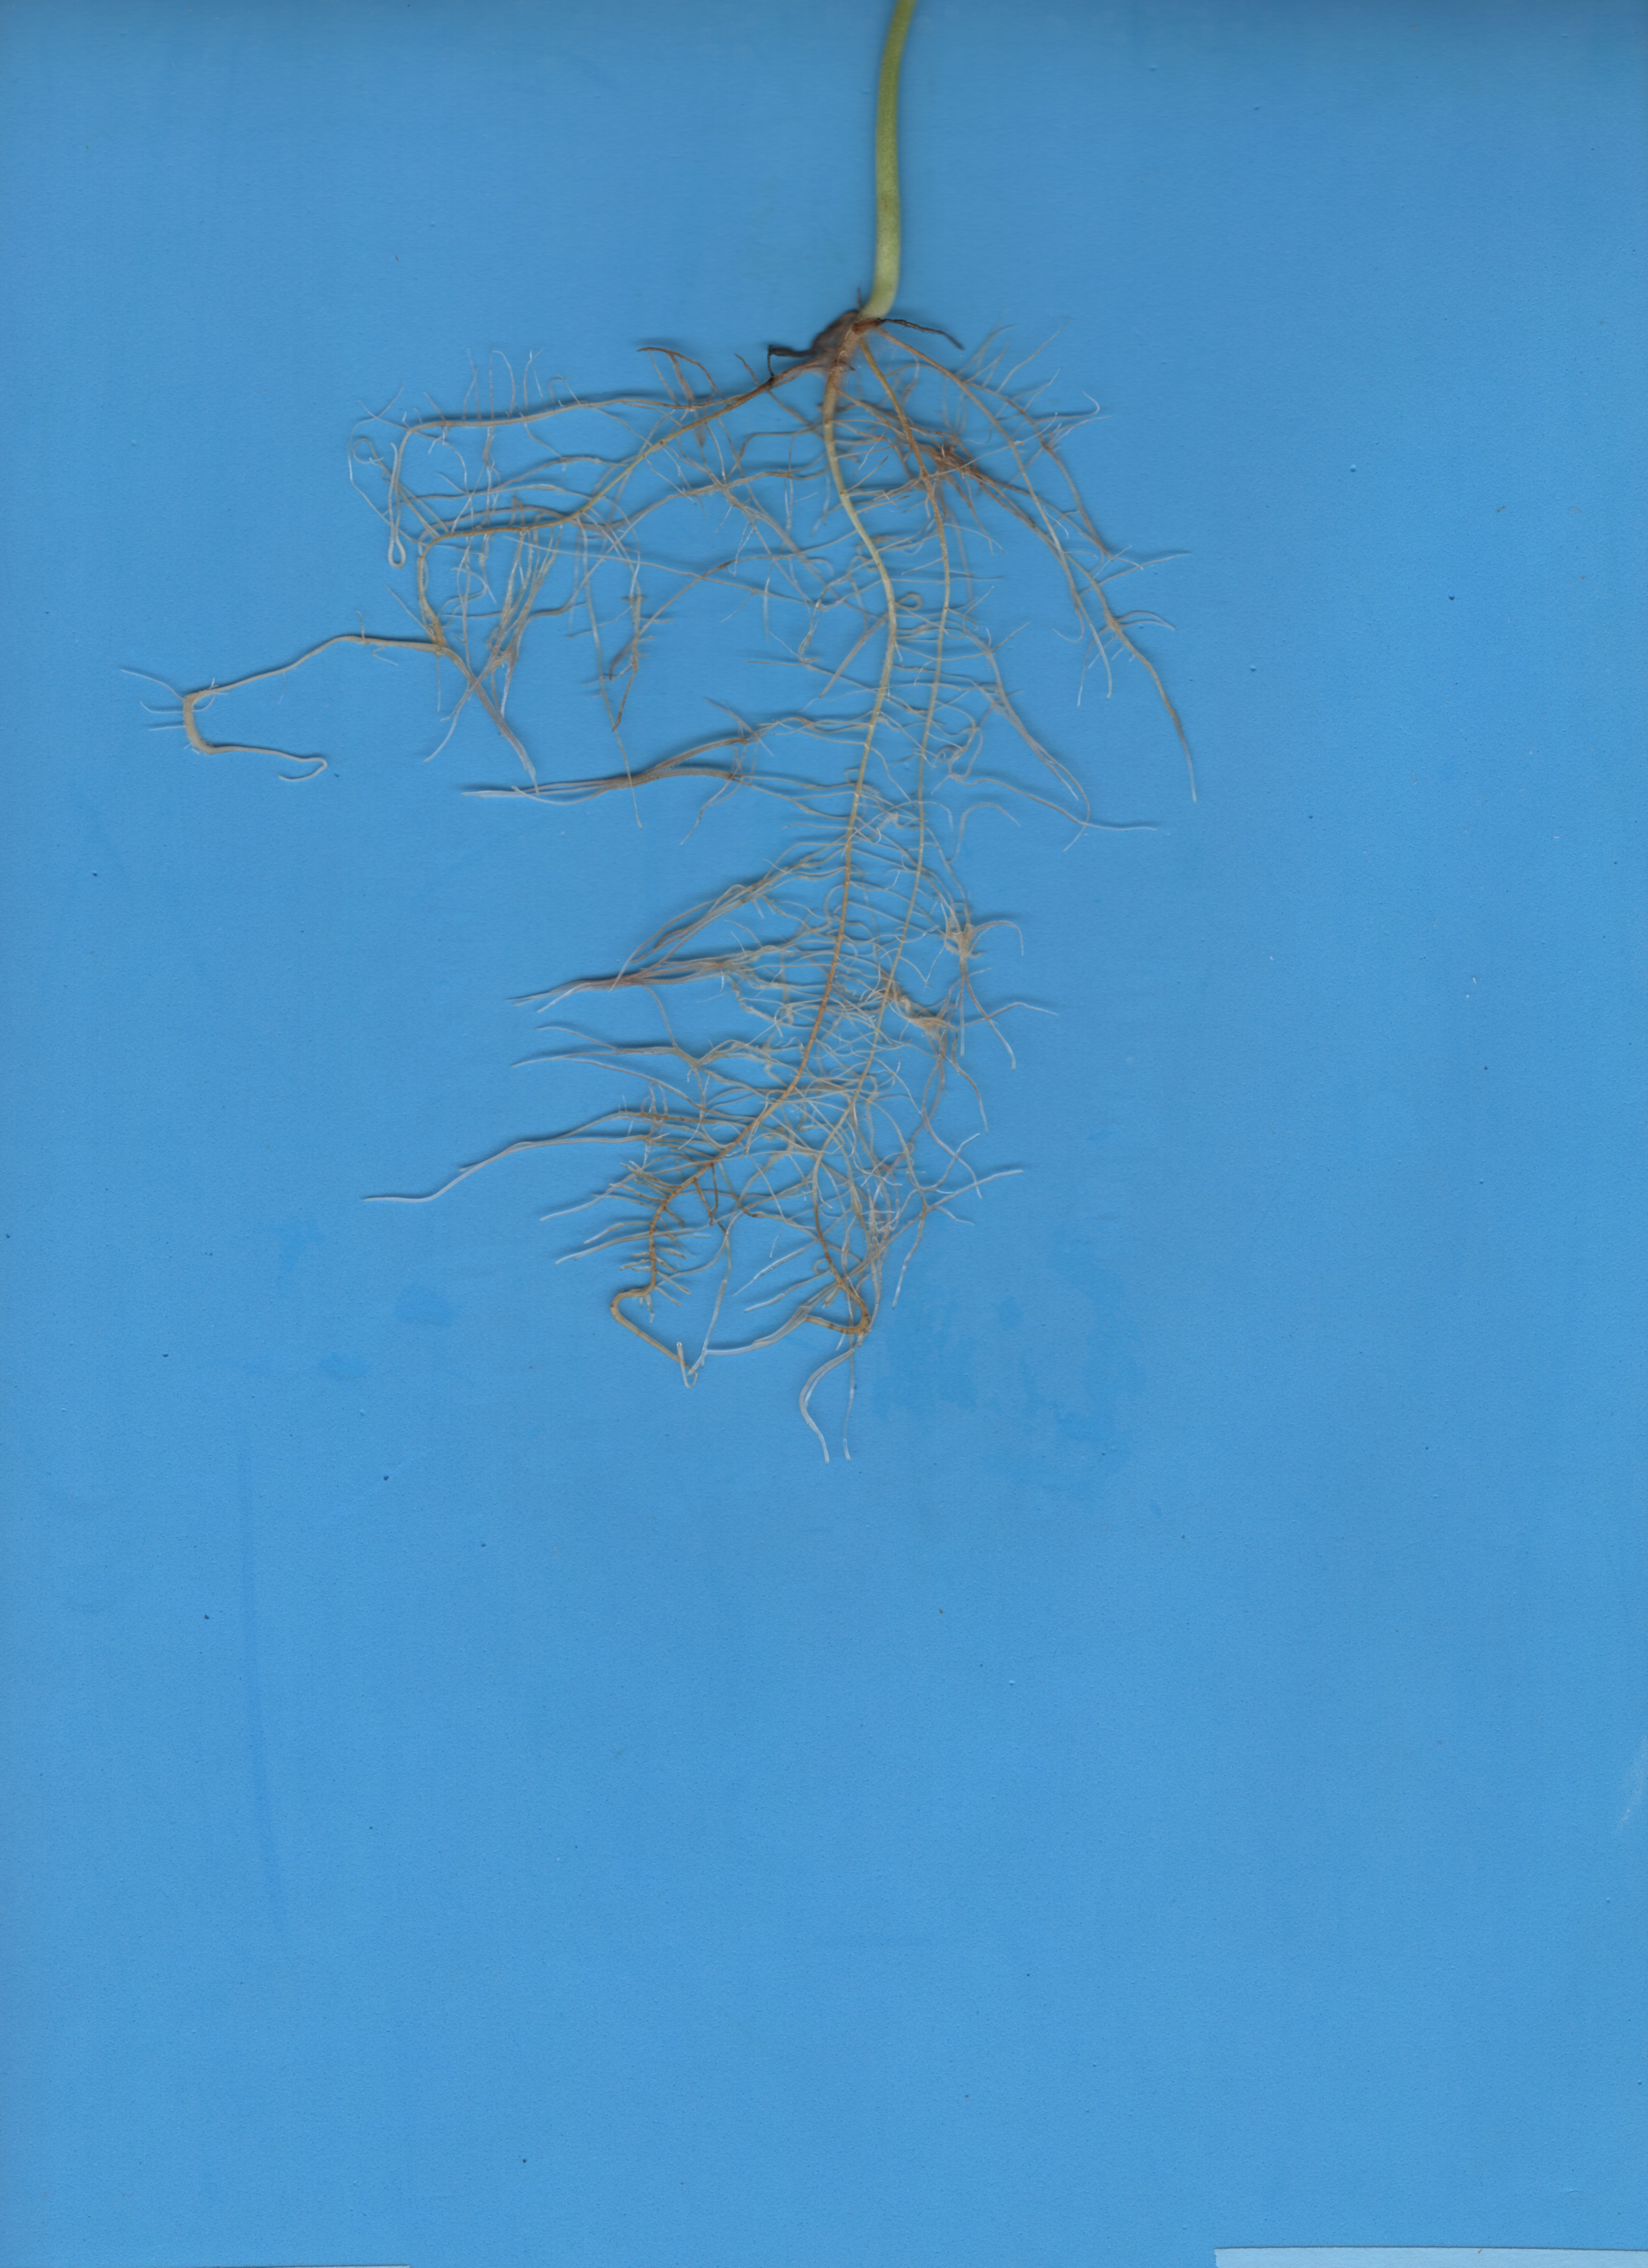CROWNGOOD: (831, 0, 972, 364)
ROOTGOOD: (100, 296, 1215, 1532)
